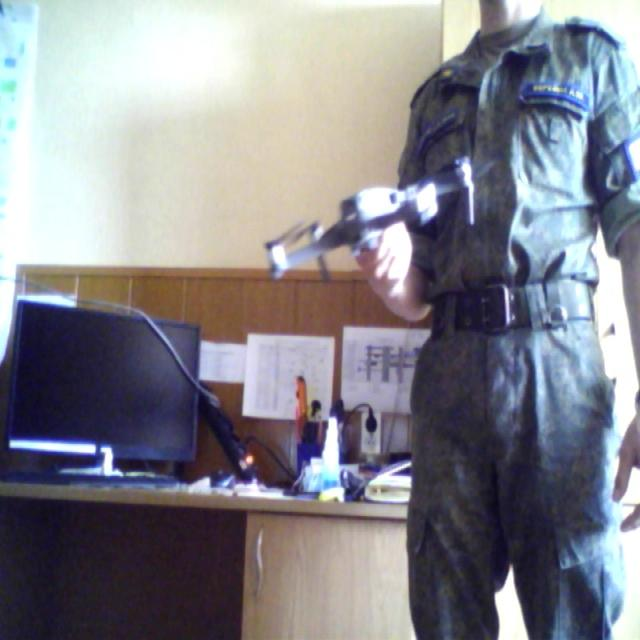drone: (260, 150, 487, 293)
